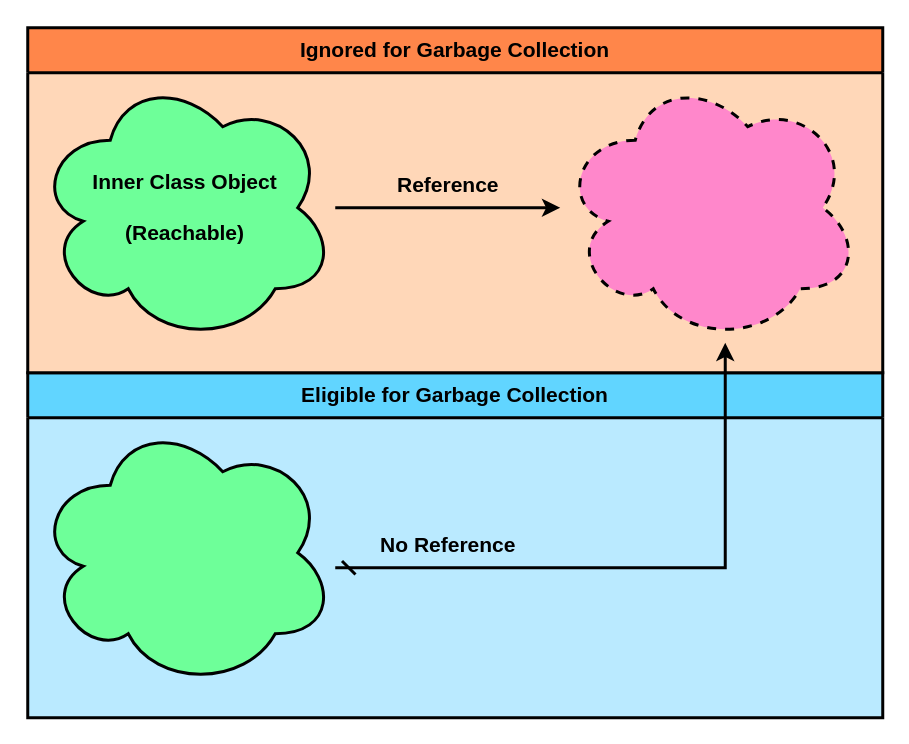
The diagram is 909 pixels wide and 744 high, and some of its shapes have lost their labels. The centre of each missing label's shape, as x and y in pixels:
Outter Class Object (Unreachable to other objects): the point at 709,207
Static Nested Class Object (Reachable): the point at 184,552
